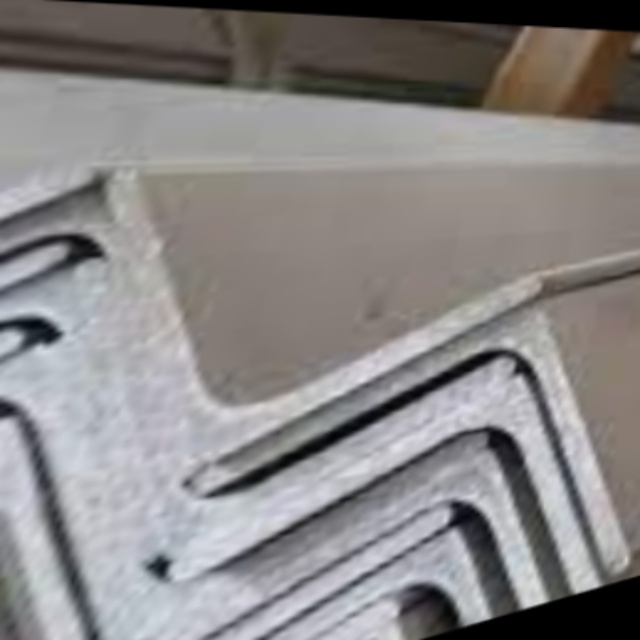Angle: (164, 314, 640, 640), (43, 180, 549, 469), (156, 376, 640, 640), (16, 404, 475, 640), (129, 444, 611, 640), (0, 441, 445, 640), (0, 454, 411, 640), (117, 523, 567, 640), (0, 522, 380, 640), (0, 66, 118, 320), (0, 188, 74, 414), (0, 533, 70, 640), (0, 279, 23, 585), (0, 289, 17, 500)
